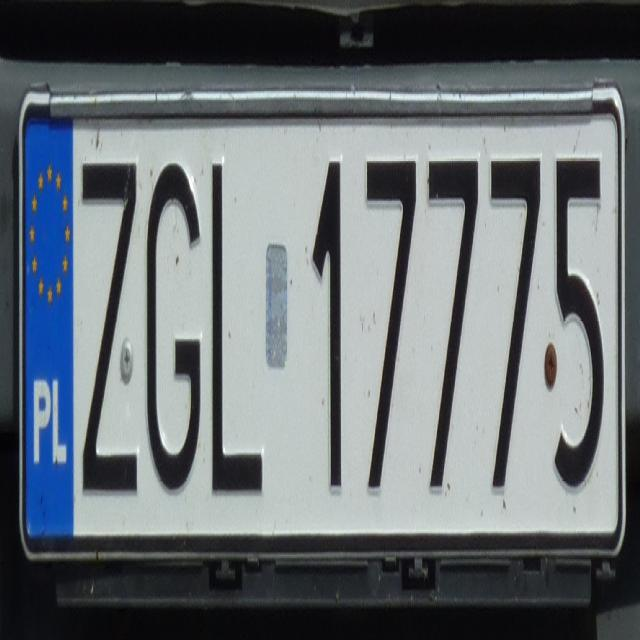pl_license_plate: (22, 112, 619, 546)
